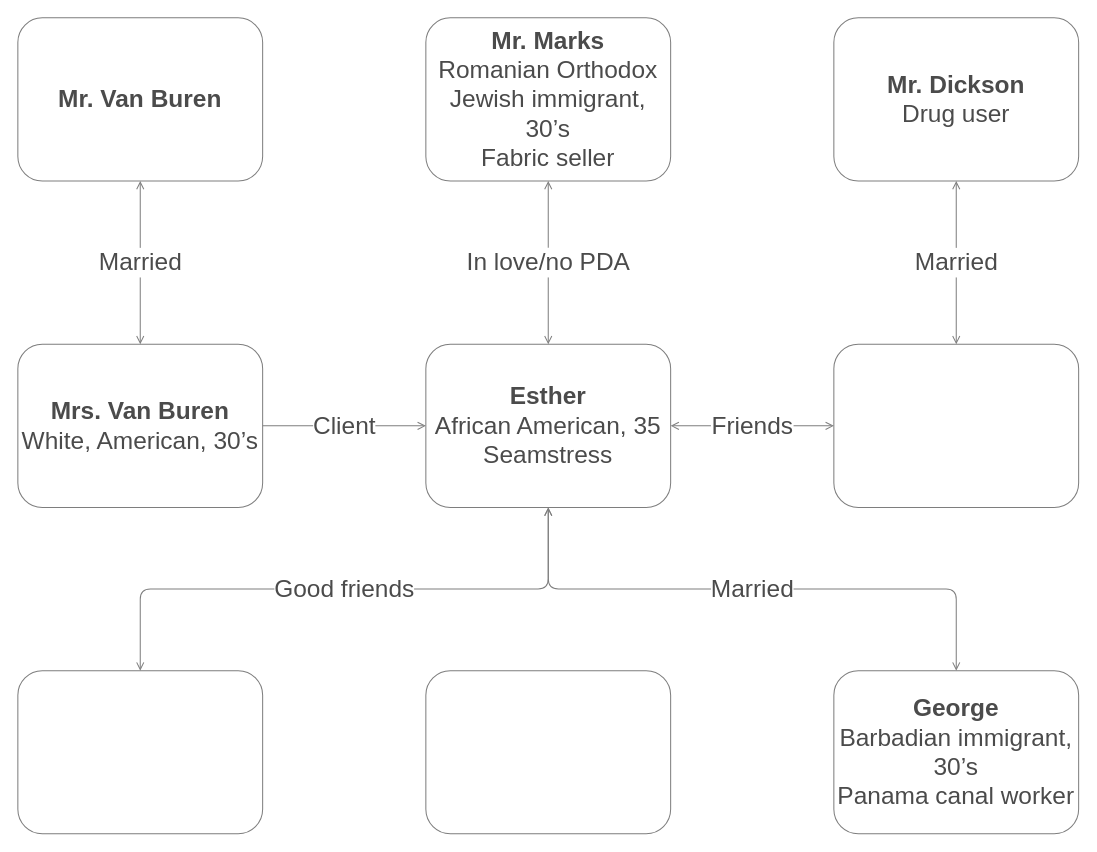
Image size: 1097x852. Some labels were removed from this diagram. The box of each missing label's shape, as (x1, y1, x2, y2) in pixels:
Mayme African American, 30 Prostitute: (17, 670, 263, 834)
Mr. Charles: (425, 670, 671, 834)
Mrs. Dickson African American, 50’s: (833, 343, 1079, 507)
